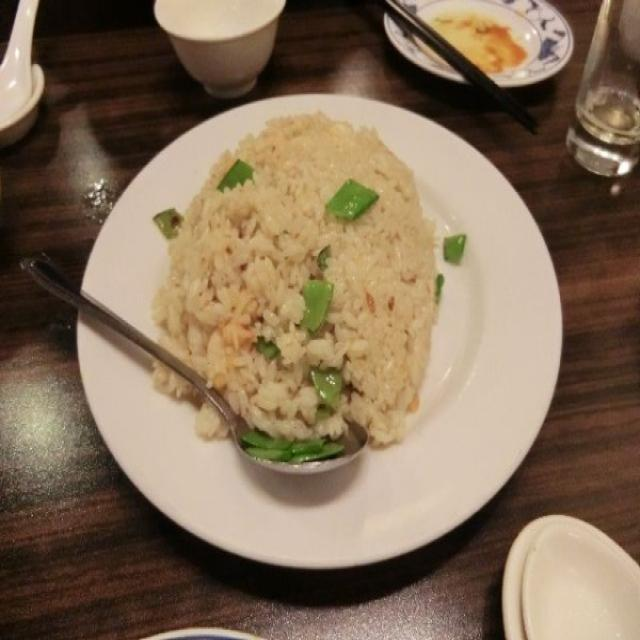米饭主食: (66, 54, 462, 640)
